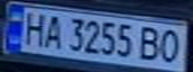2: (81, 17, 103, 56)
3: (63, 16, 87, 53)
5: (115, 21, 139, 60), (100, 19, 118, 56)
A: (39, 12, 66, 50)
B: (136, 25, 163, 61)
H: (18, 9, 51, 47)
O: (157, 27, 187, 65)
